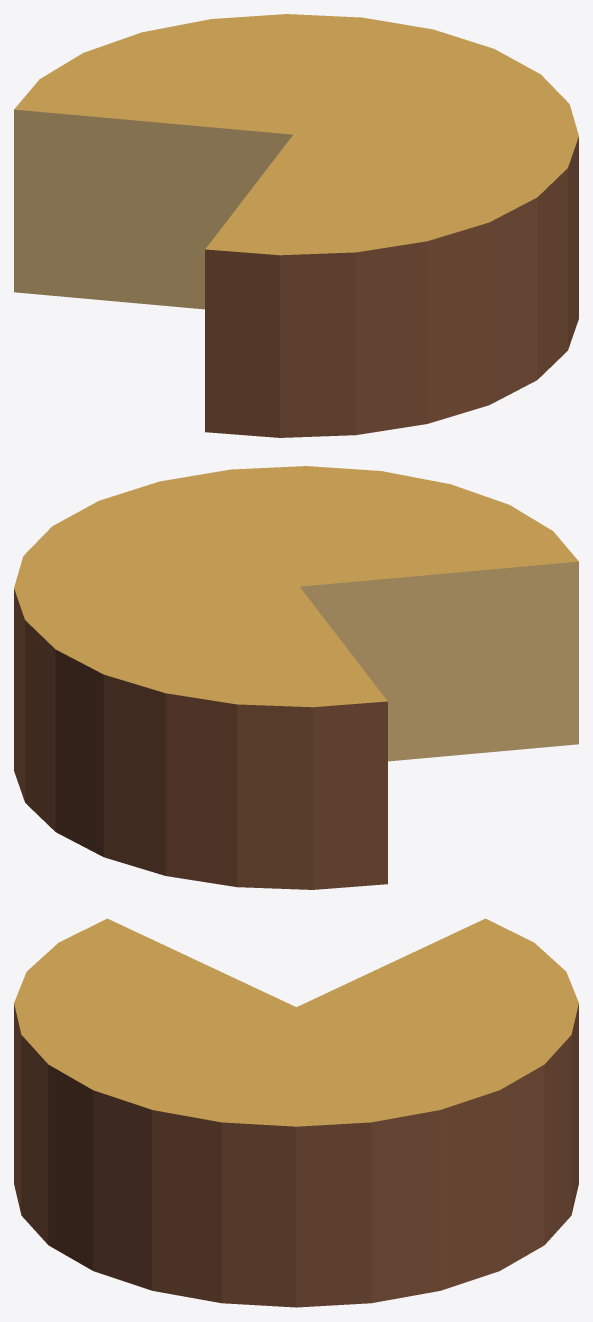
The model's file is AE_Item_WaxCheese.fbx.
The picture shows the model from 3 angles, top to bottom: view 1: azimuth 30°, elevation 25°; view 2: azimuth 150°, elevation 25°; view 3: azimuth 270°, elevation 25°; orthographic projection.
Visible parts, largest first — view 1: AE_Item_WaxCheese; view 2: AE_Item_WaxCheese; view 3: AE_Item_WaxCheese.
Boxes of the visible parts, x1,y1,x2,y2 form: AE_Item_WaxCheese: [14, 14, 578, 437]; AE_Item_WaxCheese: [14, 466, 578, 889]; AE_Item_WaxCheese: [14, 918, 578, 1307].
Size of the model in its own units: 0.2963 by 0.12 by 0.3398.
